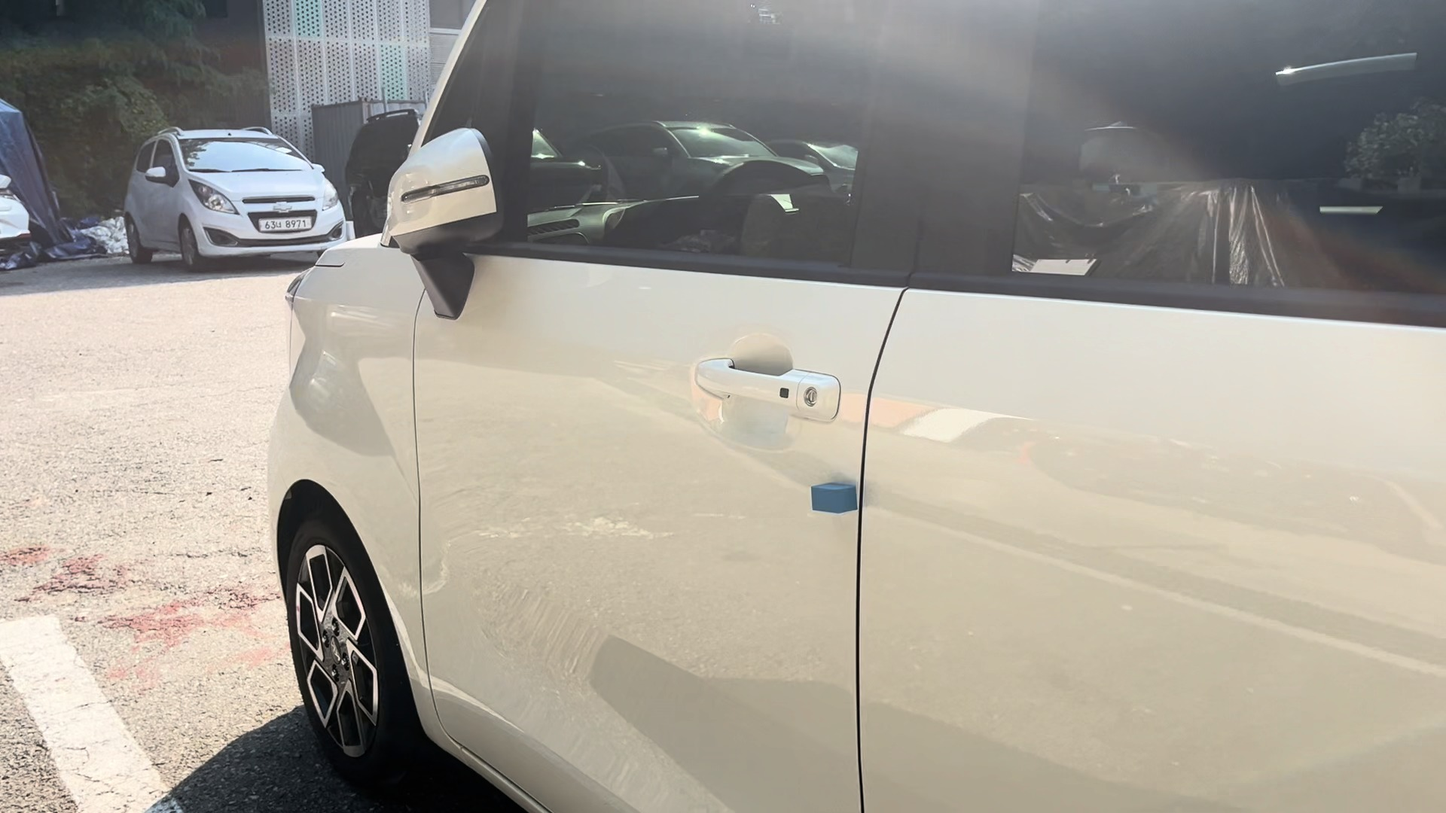door_handle: (685, 356, 844, 415)
side_mirror: (393, 121, 505, 257)
